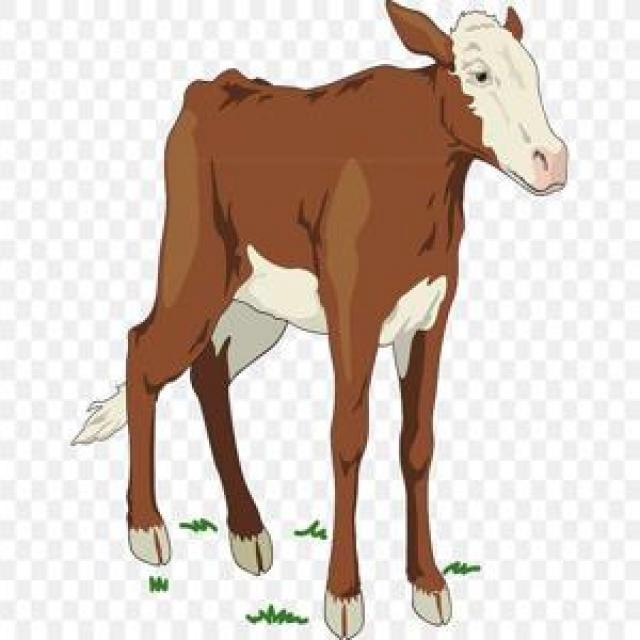cow: (81, 0, 568, 640)
